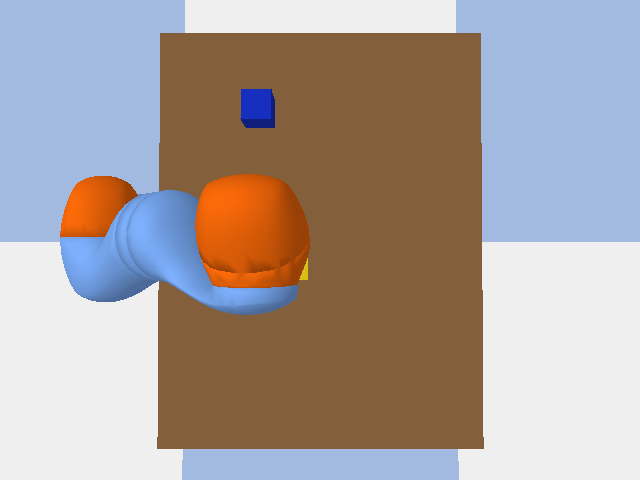blue_obj: (240, 89, 274, 127)
yellow_obj: (299, 258, 307, 279)
